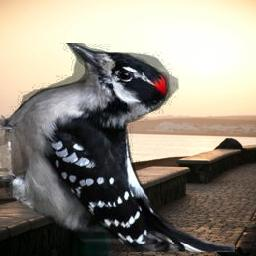Woodpecker: (0, 44, 235, 253)
